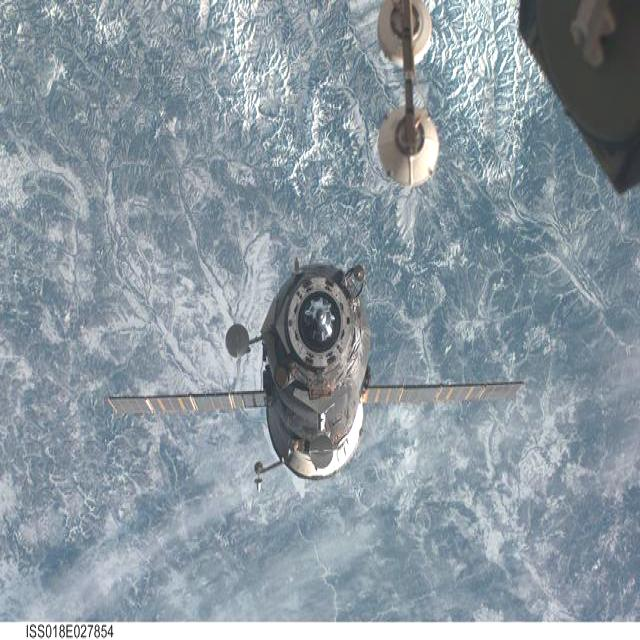satellite: (105, 252, 519, 493), (375, 0, 441, 181)
